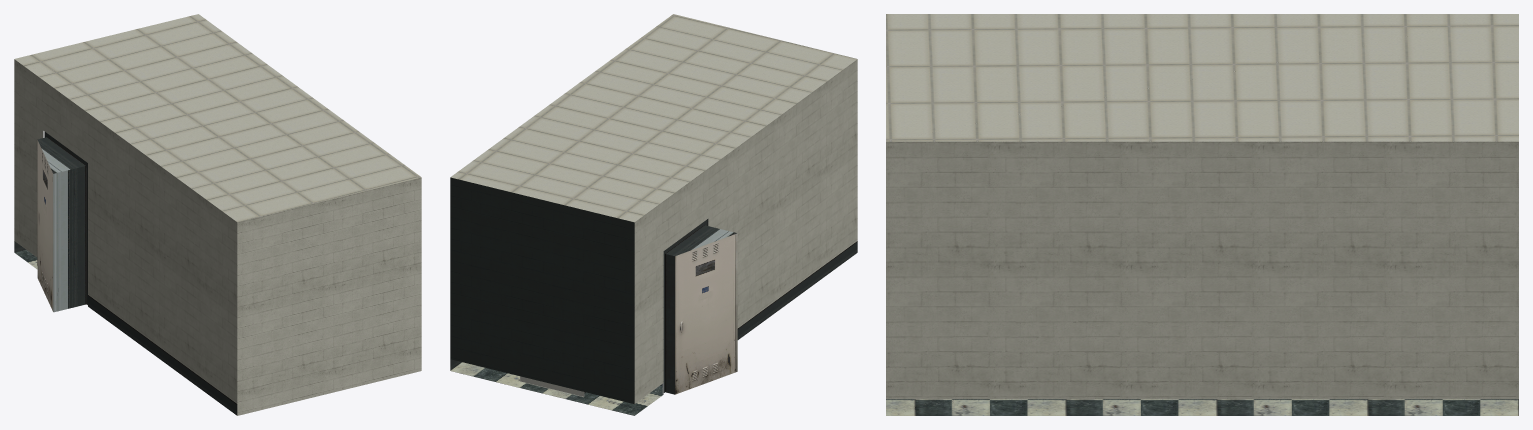
File: MugRoom.fbx
The picture shows the model from 3 angles, left to right: view 1: azimuth 30°, elevation 25°; view 2: azimuth 150°, elevation 25°; view 3: azimuth 270°, elevation 25°; orthographic projection. The views are drawn at different scales.
Parts seen in each view (by area): view 1: basde1; view 2: basde1, post1; view 3: basde1.
Boxes of the visible parts, x1,y1,x2,y2 form: basde1: [14, 14, 421, 415]; basde1: [450, 14, 857, 415]; post1: [520, 376, 584, 396]; basde1: [886, 14, 1518, 415].
Bounding box in the file's own units: 3.52 × 3.01 × 6.29.
